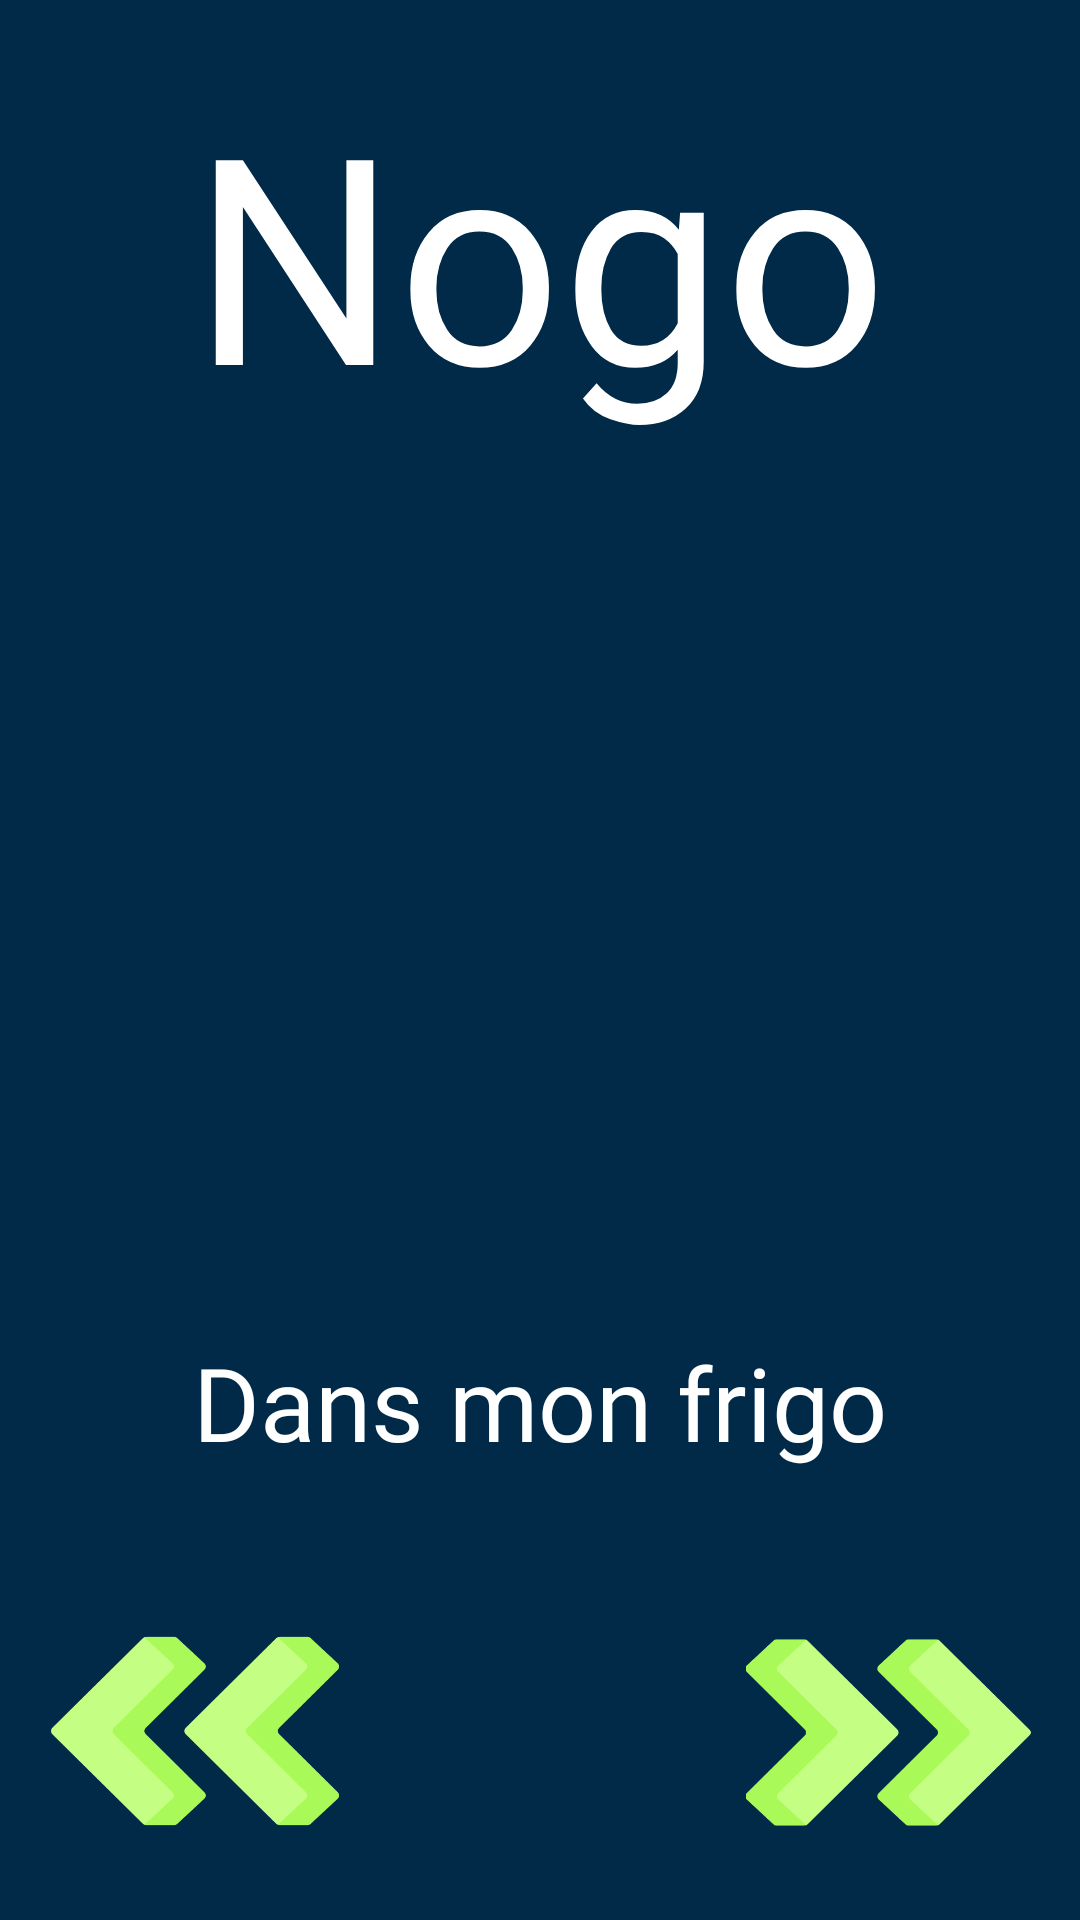

Icons on this 1080*1920 Android screen, each with the point to tap as [x,y]:
fleche droite: [888,1732]
fleche gauche: [195,1731]
